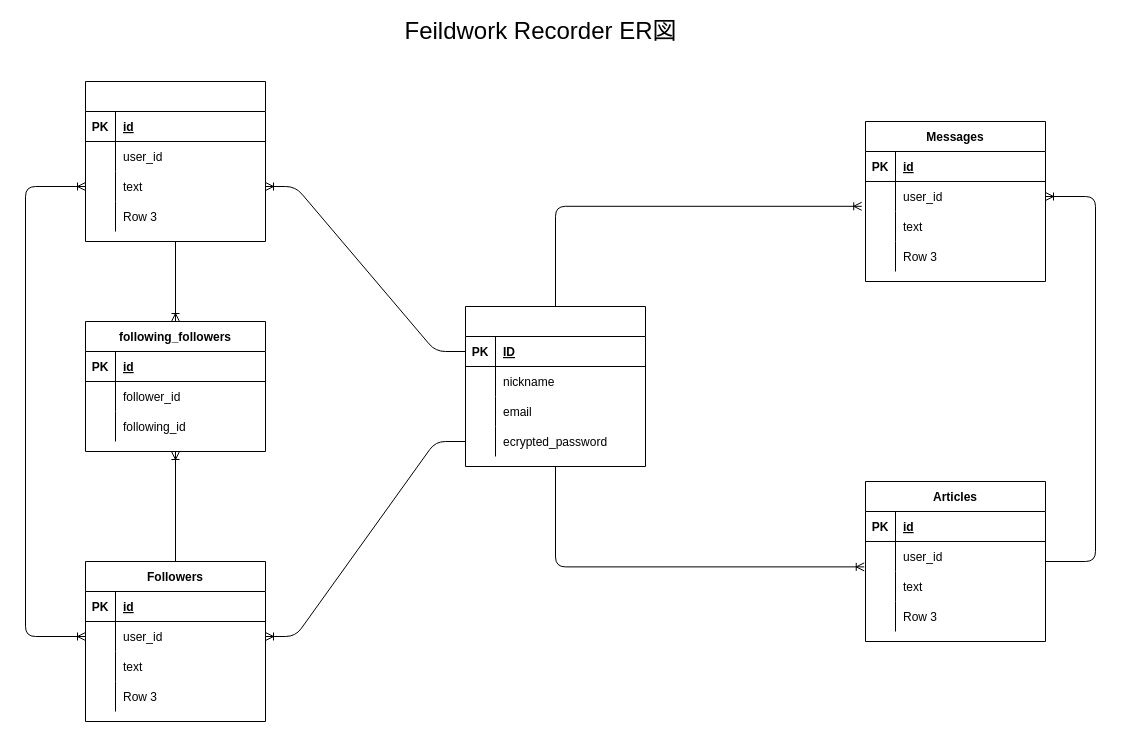
The diagram is 1121 pixels wide and 739 high, and some of its shapes have lost their labels. Each missing label, with the box of its shape:
Follows: (84, 80, 266, 242)
Users: (464, 306, 646, 466)
